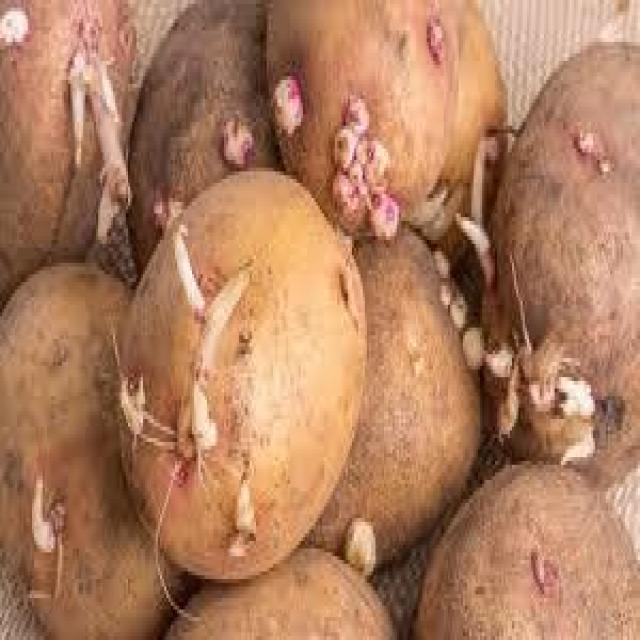potato: (167, 548, 398, 640)
